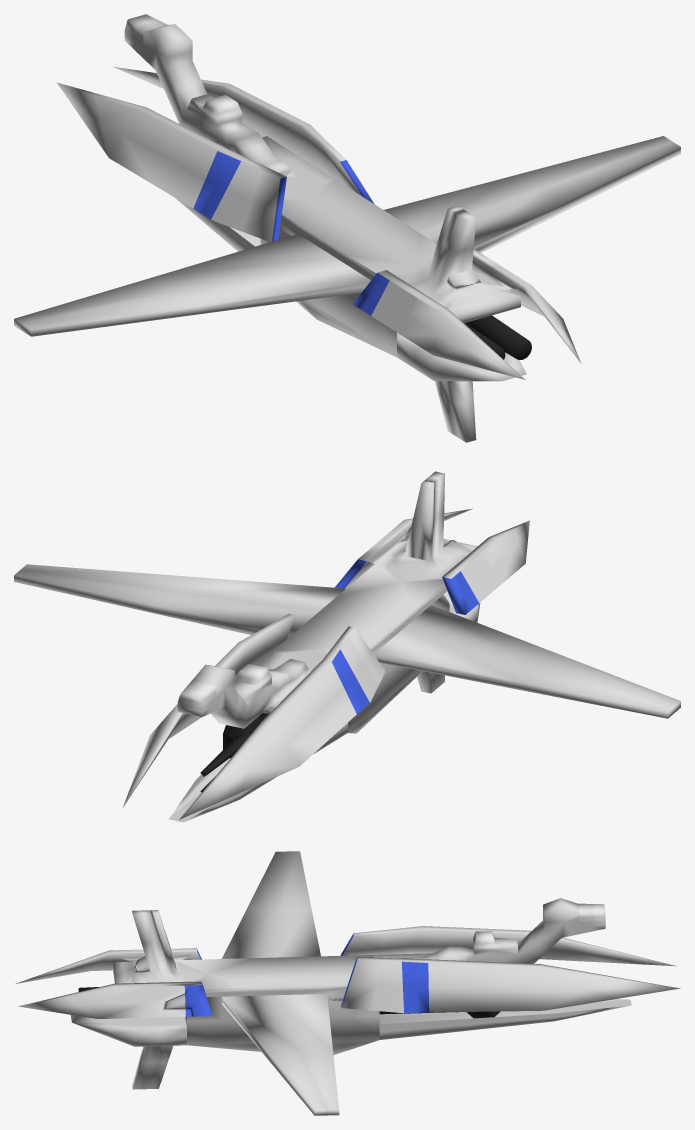
Rendered from Frigate.fbx.
3 views of the same model, one above another, from view 1: azimuth 30°, elevation 25°; view 2: azimuth 150°, elevation 25°; view 3: azimuth 270°, elevation 25° (orthographic). The views are drawn at different scales.
Parts seen in each view (by area): view 1: Munificent Class Frigate; view 2: Munificent Class Frigate; view 3: Munificent Class Frigate.
Part boxes in pixels (left/top/right/bottom): Munificent Class Frigate: left=14, top=14, right=680, bottom=442; Munificent Class Frigate: left=14, top=471, right=680, bottom=822; Munificent Class Frigate: left=15, top=851, right=680, bottom=1115.
Bounding box in the file's own units: 17482 × 5500 × 19015.
